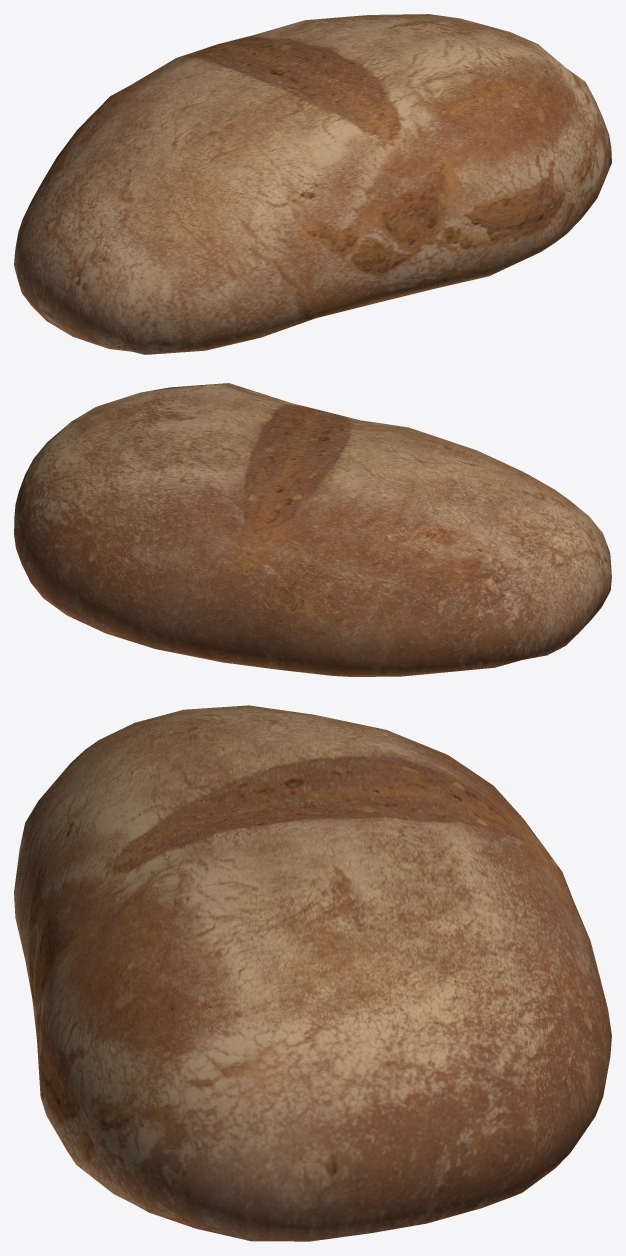
The model's file is pan.glb.
3 renders of one model, top to bottom at view 1: azimuth 30°, elevation 25°; view 2: azimuth 150°, elevation 25°; view 3: azimuth 270°, elevation 25°, orthographic. The views are drawn at different scales.
Parts seen in each view (by area): view 1: Loaf of Bread_0; view 2: Loaf of Bread_0; view 3: Loaf of Bread_0.
Part boxes in pixels (x1,y1,x2,y2): Loaf of Bread_0: [14, 14, 611, 354]; Loaf of Bread_0: [14, 383, 611, 676]; Loaf of Bread_0: [14, 705, 611, 1241].
Size of the model in its own units: 0.3003 by 0.0965 by 0.1855.
1 material, 1 textured.
